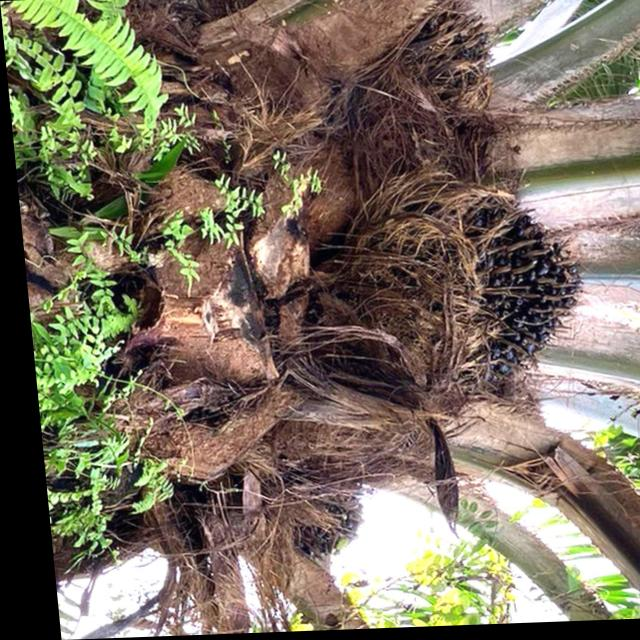unripe: (392, 184, 592, 399)
